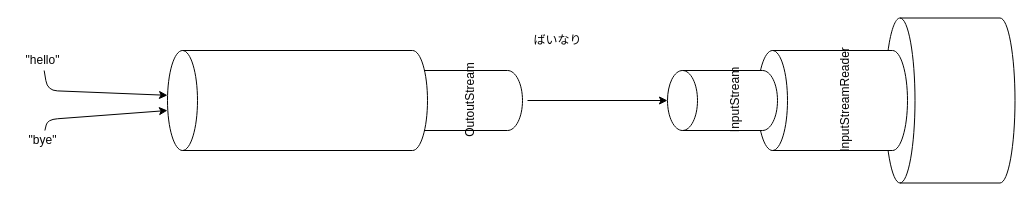
The diagram is 1032 pixels wide and 200 high, and some of its shapes have lost their labels. The centre of each missing label's shape, as x and y in pixels:
"BufferdReader" belongs at point 949,100.
"PrintWriter" belongs at point 297,100.
